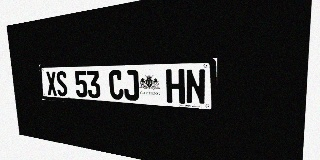3: (86, 70, 101, 99)
5: (75, 71, 88, 98)
C: (108, 70, 124, 100)
H: (166, 69, 185, 104)
J: (123, 70, 139, 101)
N: (185, 69, 206, 105)
S: (56, 71, 68, 97)
X: (46, 71, 58, 96)
